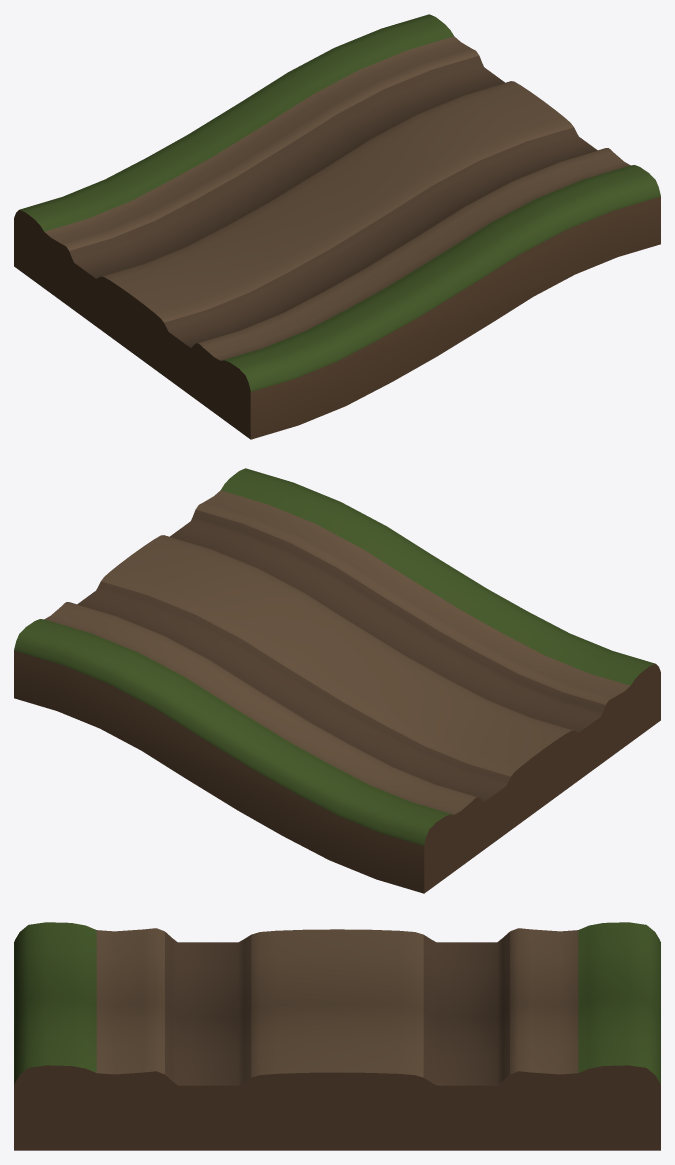
3 views of the same model, one above another, from view 1: azimuth 30°, elevation 25°; view 2: azimuth 150°, elevation 25°; view 3: azimuth 270°, elevation 25° (orthographic). The views are drawn at different scales.
Visible parts, largest first — view 1: c1o; view 2: c1o; view 3: c1o.
Boxes of the visible parts, <box> form: c1o: <box>14,14,660,439</box>; c1o: <box>14,468,660,893</box>; c1o: <box>14,922,660,1150</box>.
Bounding box in the file's own units: 9 × 3.31 × 9.
